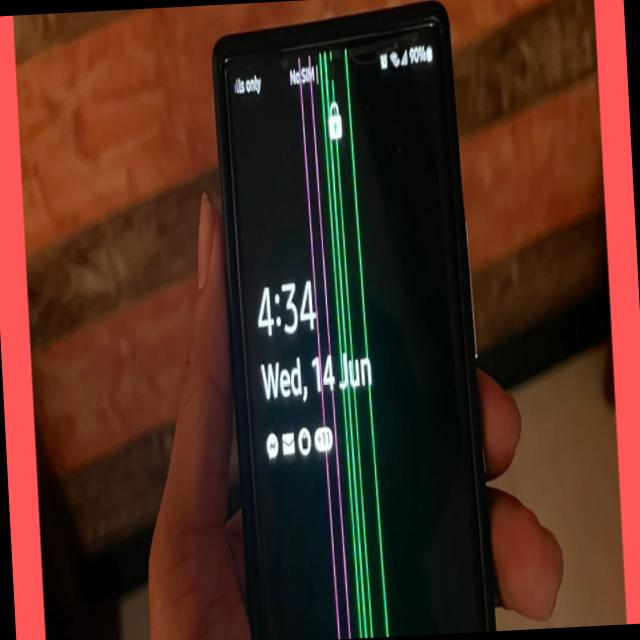mobile_phone: (199, 0, 521, 640)
